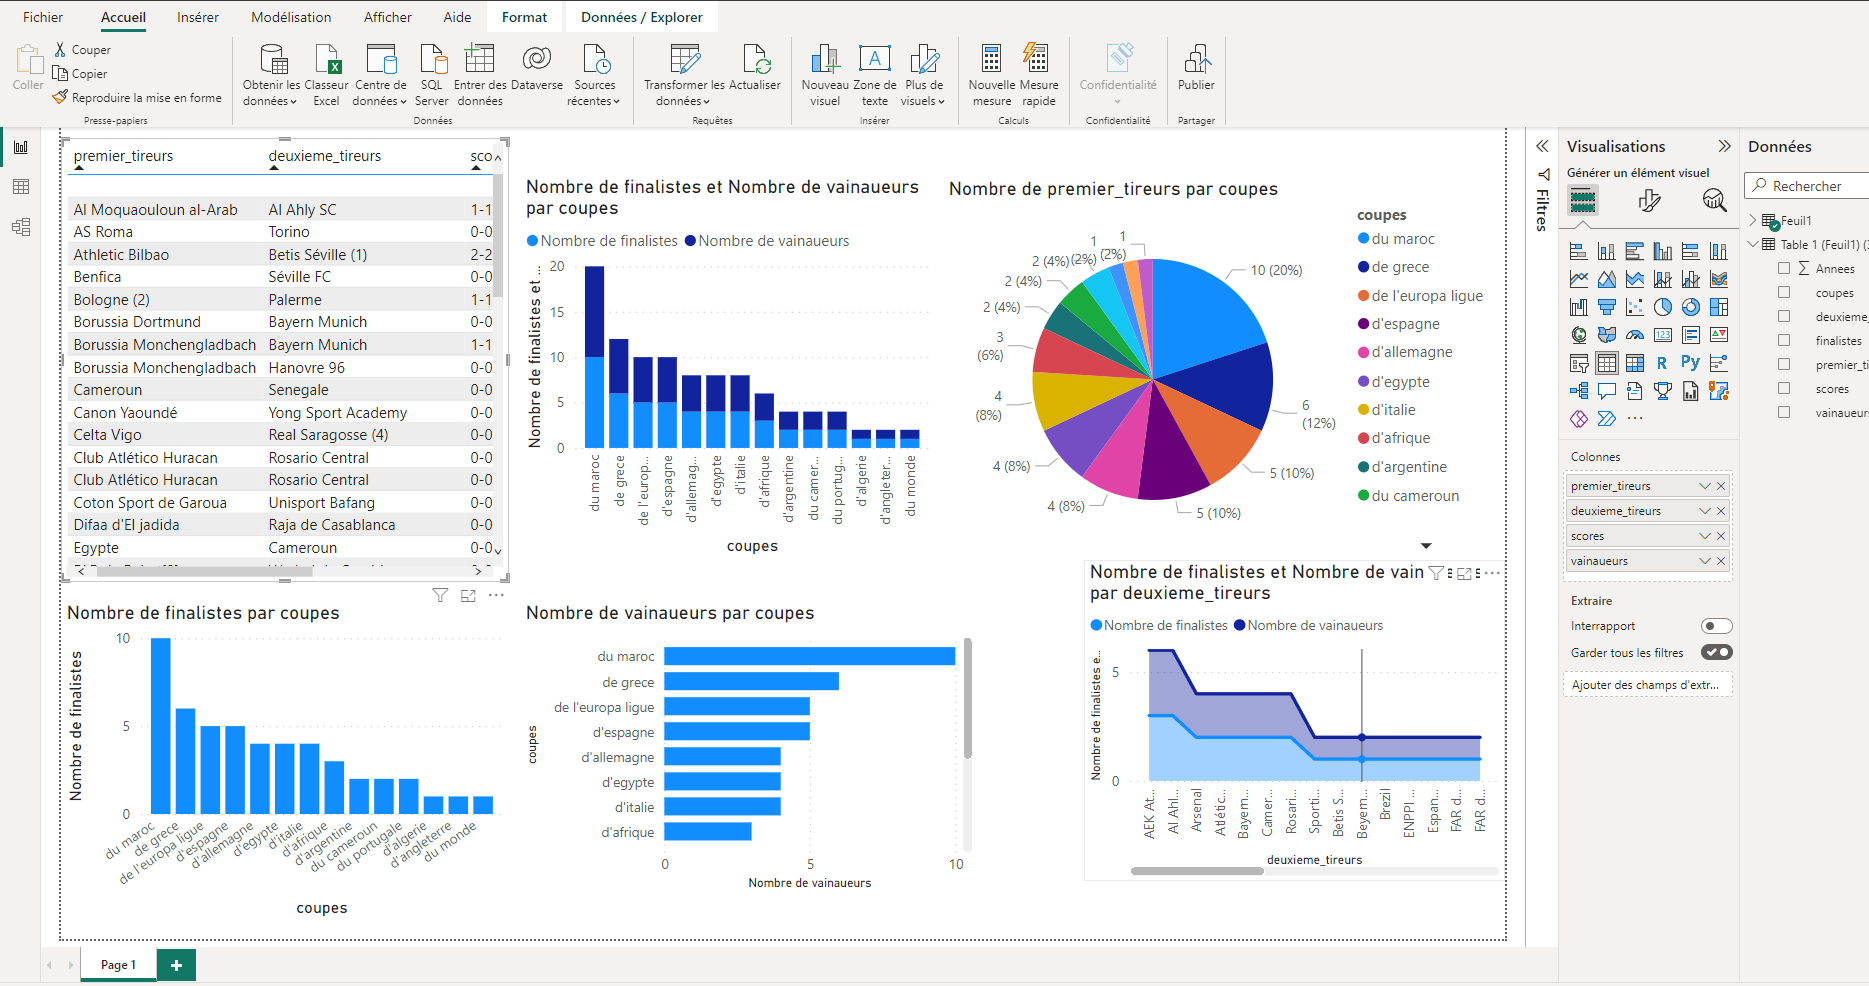

This screenshot's page, from the dashboard's own definition file:
{"tool":"powerbi","page":{"name":"Page 1","canvas":[1280,720],"ordinal":0},"visuals":[{"type":"columnChart","fields":{"Category":["Feuil1.coupes"],"Y":["CountNonNull(Feuil1.finalistes)","CountNonNull(Feuil1.vainaueurs)"]},"box":[407,42.6,368,341.4],"z":0},{"type":"tableEx","fields":{"Values":["Feuil1.premier_tireurs","Feuil1.deuxieme_tireurs","Feuil1.scores","Feuil1.vainaueurs"]},"box":[0,9.8,397.2,393.7],"z":1000},{"type":"clusteredBarChart","fields":{"Category":["Feuil1.coupes"],"Y":["CountNonNull(Feuil1.vainaueurs)"]},"box":[407,420.3,406.1,260.7],"z":2000},{"type":"columnChart","fields":{"Category":["Feuil1.coupes"],"Y":["CountNonNull(Feuil1.finalistes)"]},"box":[0,420.3,397.2,284.6],"z":3000},{"type":"pieChart","fields":{"Y":["CountNonNull(Feuil1.premier_tireurs)"],"Category":["Feuil1.coupes"]},"box":[782.1,44.3,493,339.6],"z":4000},{"type":"stackedAreaChart","fields":{"Category":["Feuil1.deuxieme_tireurs"],"Y":["CountNonNull(Feuil1.finalistes)","CountNonNull(Feuil1.vainaueurs)"]},"box":[907.1,383.9,373.3,284.6],"z":5000}]}

Visuals, with their boxes on the page's 1280x720 design canvas (x1, y1, x2, y2). These are canvas units, not pixel positions in the 1869x986 screenshot, which may show the page scaled, cropped or inside an application window:
columnChart - Feuil1.coupes x CountNonNull(Feuil1.finalistes): 407 43 775 384
tableEx - Feuil1.premier_tireurs x Feuil1.deuxieme_tireurs: 0 10 397 404
clusteredBarChart - Feuil1.coupes x CountNonNull(Feuil1.vainaueurs): 407 420 813 681
columnChart - Feuil1.coupes x CountNonNull(Feuil1.finalistes): 0 420 397 705
pieChart - CountNonNull(Feuil1.premier_tireurs) x Feuil1.coupes: 782 44 1275 384
stackedAreaChart - Feuil1.deuxieme_tireurs x CountNonNull(Feuil1.finalistes): 907 384 1280 668
